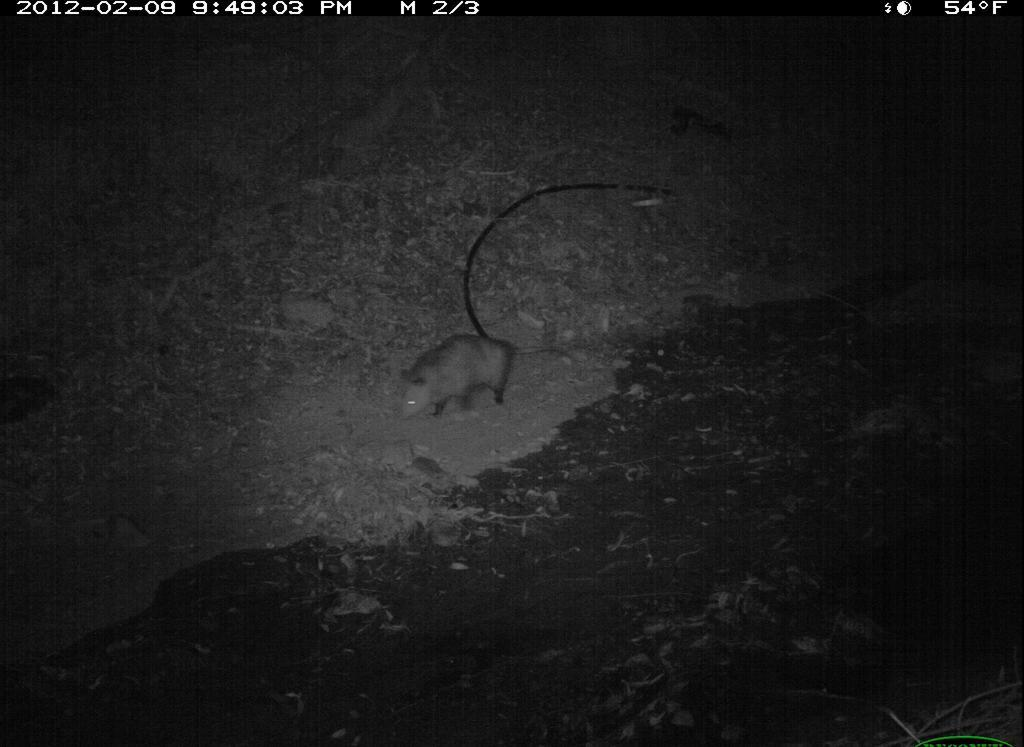opossum: (391, 322, 591, 428)
